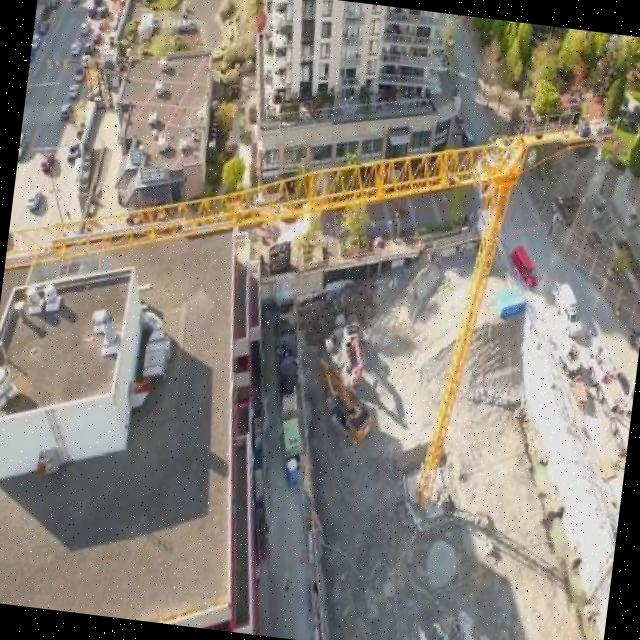Excavator: (306, 358, 378, 451), (333, 313, 366, 384)
